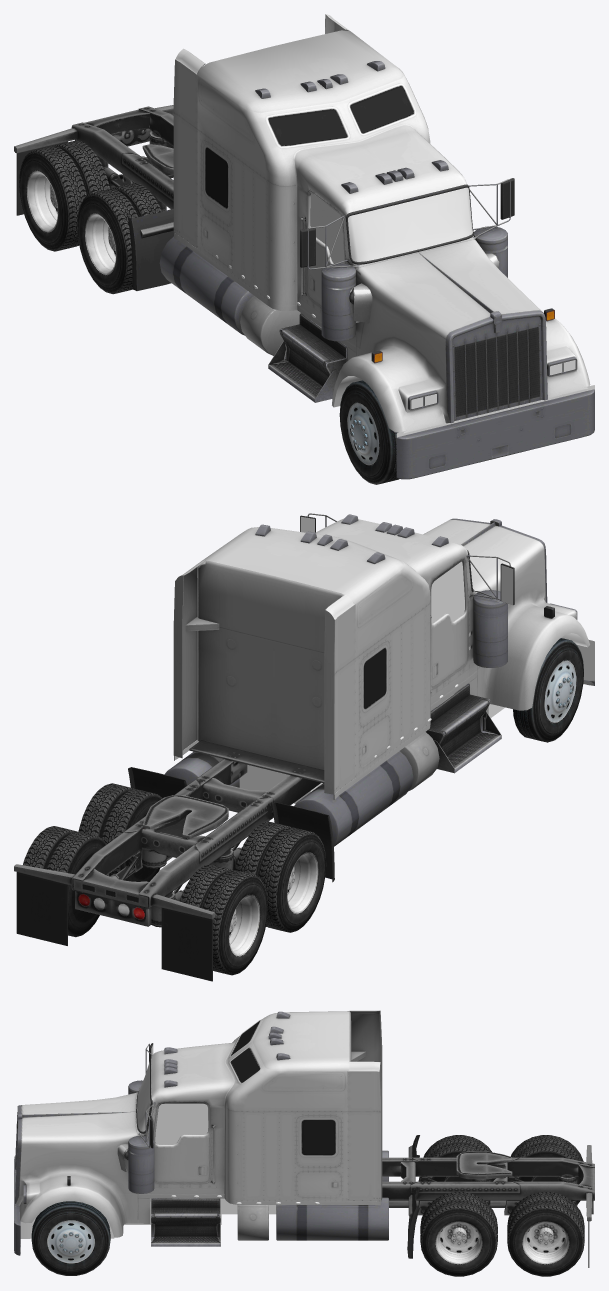
Rendered from kenworth-w900.glb.
3 renders of one model, top to bottom at view 1: azimuth 30°, elevation 25°; view 2: azimuth 150°, elevation 25°; view 3: azimuth 270°, elevation 25°, orthographic. The views are drawn at different scales.
Visible parts, largest first — view 1: rear_attac, Object005_kenworth_w900_ext_texture_0, kenworth_g, rear_low_0_35, rear_low_0_33, front_low0_17; view 2: rear_attac, Object005_kenworth_w900_ext_texture_0, rear_low_0_33, rear_low_0_35, front_low0_17, rear_low_0_34, rear_low_0_32, kenworth_g, Object002_1_Material__119_1_0; view 3: rear_attac, Object005_kenworth_w900_ext_texture_0, rear_low_0_34, rear_low_0_32, front_low0_16, kenworth_g, rear_low_0_35, rear_low_0_33, Object002_1_Material__119_1_0.
Boxes of the visible parts, x1,y1,x2,y2 form: rear_attac: (173, 14, 590, 433); Object005_kenworth_w900_ext_texture_0: (14, 61, 594, 479); kenworth_g: (310, 187, 472, 263); rear_low_0_35: (19, 140, 110, 251); rear_low_0_33: (77, 183, 161, 294); front_low0_17: (339, 380, 398, 484); rear_attac: (173, 518, 589, 799); Object005_kenworth_w900_ext_texture_0: (14, 513, 594, 981); rear_low_0_33: (235, 821, 326, 932); rear_low_0_35: (180, 864, 267, 975); front_low0_17: (513, 638, 583, 742); rear_low_0_34: (23, 826, 111, 937); rear_low_0_32: (78, 783, 162, 881); kenworth_g: (431, 561, 464, 623); Object002_1_Material__119_1_0: (239, 633, 587, 803); rear_attac: (16, 1010, 382, 1237); Object005_kenworth_w900_ext_texture_0: (14, 1011, 594, 1267); rear_low_0_34: (507, 1192, 584, 1276); rear_low_0_32: (420, 1192, 497, 1276); front_low0_16: (31, 1201, 110, 1275); kenworth_g: (137, 1061, 208, 1144); rear_low_0_35: (510, 1135, 583, 1204); rear_low_0_33: (423, 1135, 494, 1181); Object002_1_Material__119_1_0: (20, 1198, 276, 1238).
Bounding box in the file's own units: 2.8 × 3.48 × 8.82.
Materials: 4 (3 with a texture image).
